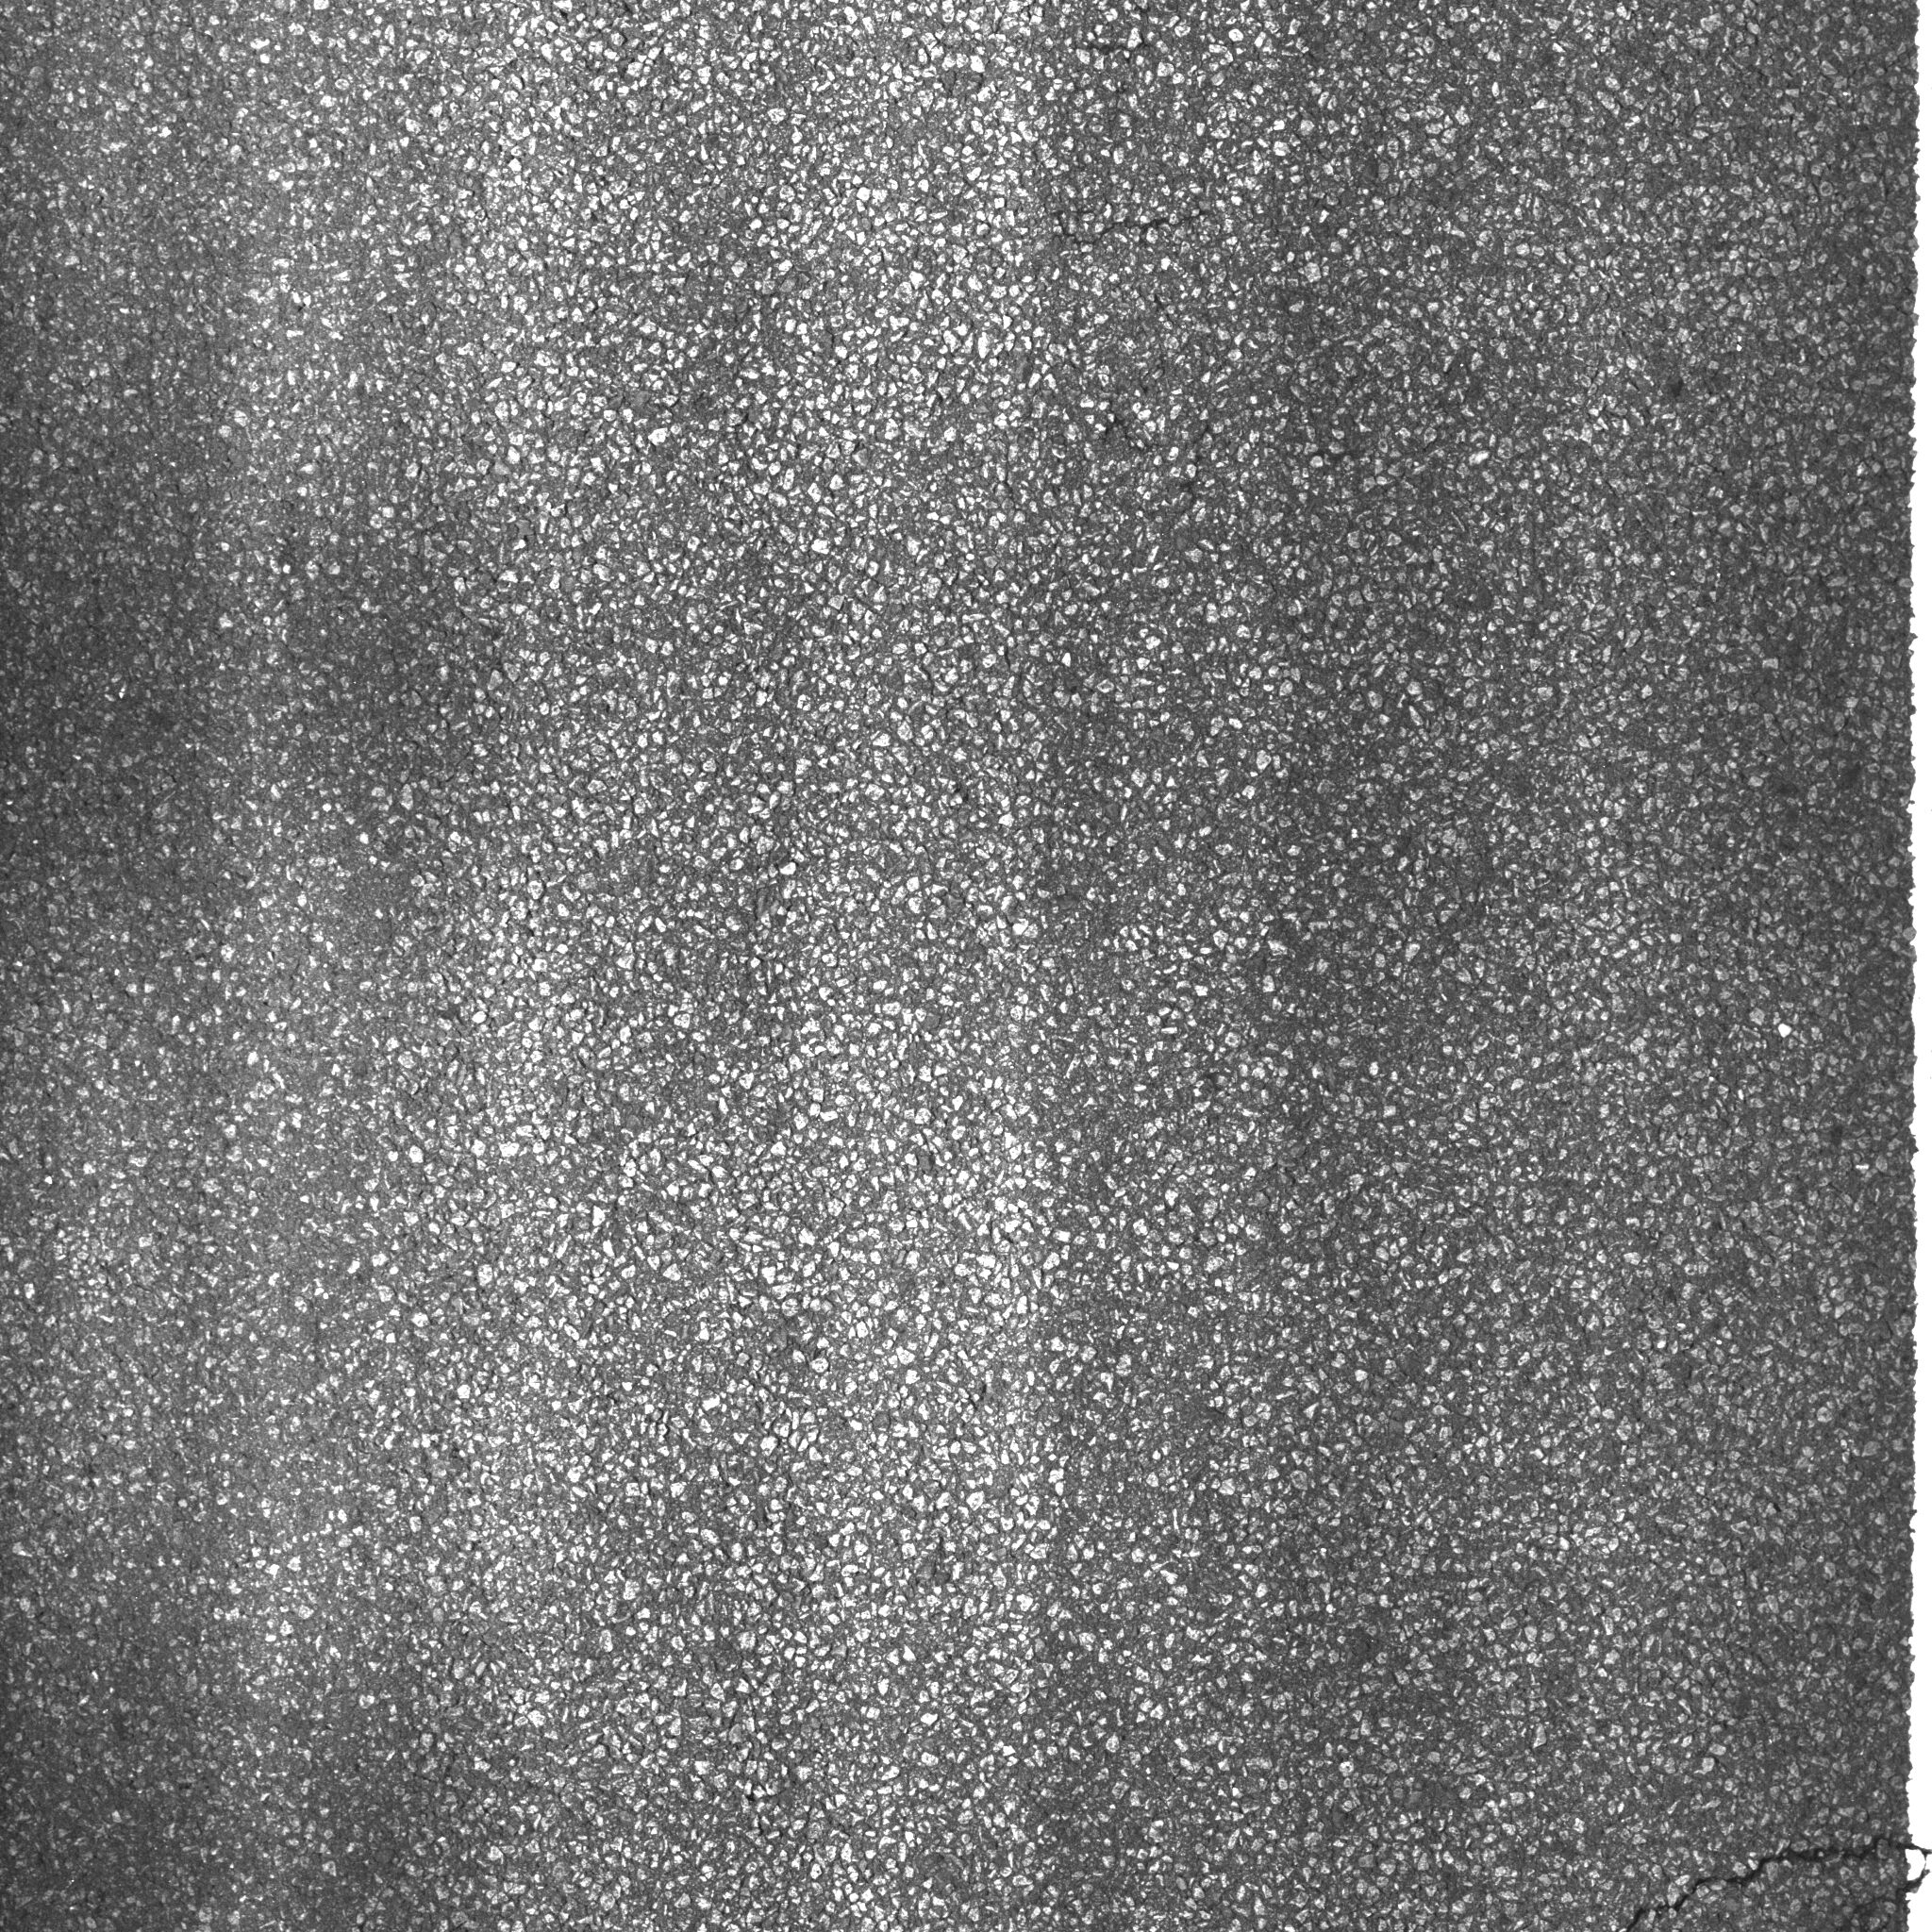transeverse: (1615, 1789, 1932, 1927)
